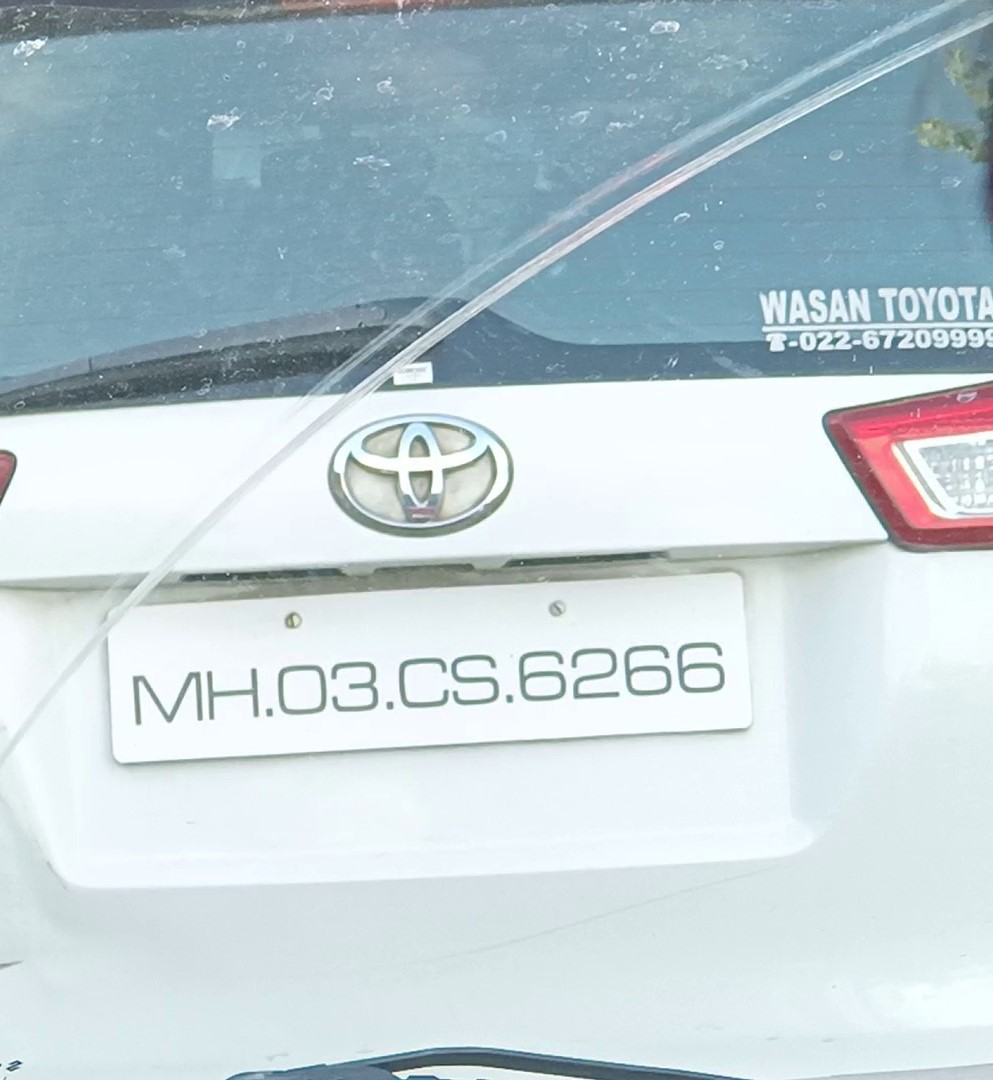MH03CS6266: (109, 567, 754, 764)
